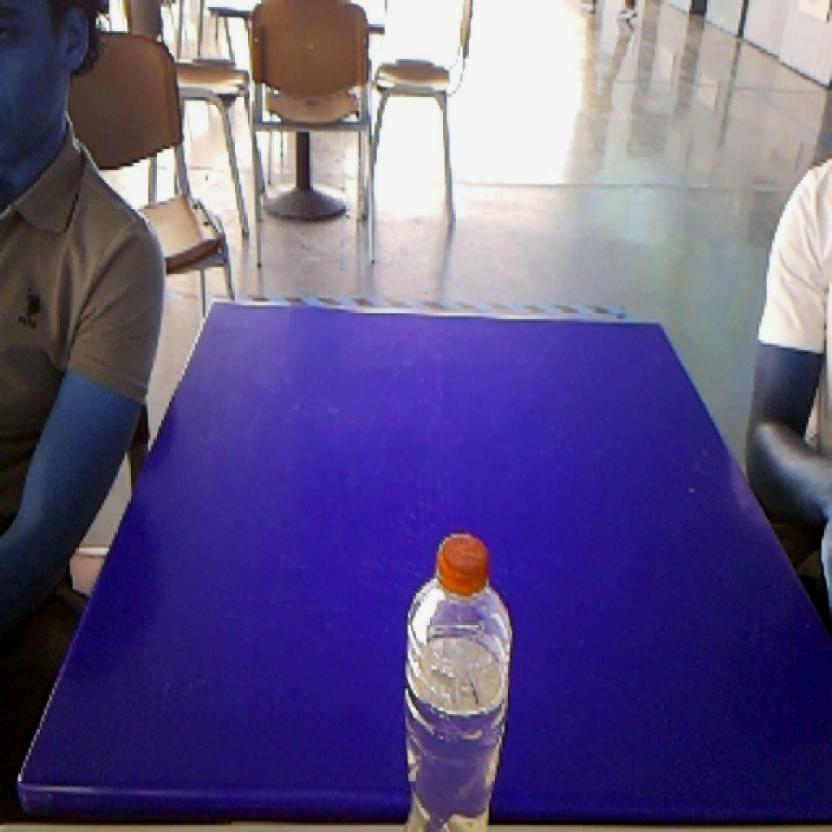no_label: (392, 522, 520, 825)
